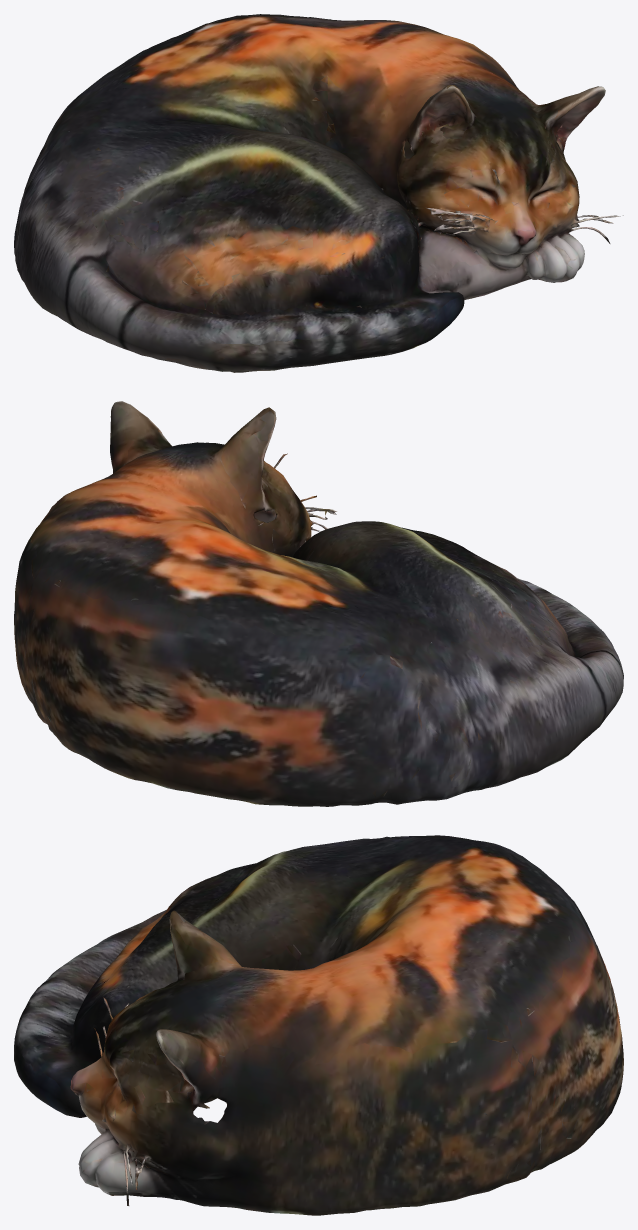
File: cat.glb
3 views of the same model, one above another, from view 1: azimuth 30°, elevation 25°; view 2: azimuth 150°, elevation 25°; view 3: azimuth 270°, elevation 25° (orthographic). The views are drawn at different scales.
Parts seen in each view (by area): view 1: Mesh_0.003; view 2: Mesh_0.003; view 3: Mesh_0.003.
Part boxes in pixels (x1,y1,x2,y2): Mesh_0.003: [14, 14, 623, 372]; Mesh_0.003: [14, 401, 623, 806]; Mesh_0.003: [14, 835, 623, 1215].
Bounding box in the file's own units: 1.93 × 0.7314 × 1.71.
Materials: 1 (1 with a texture image).
